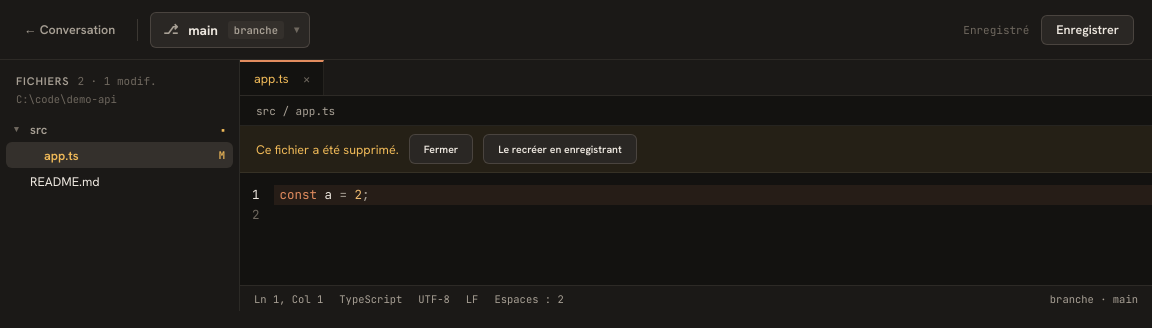
Test: EditorView › creates a deleted file again with "Enregistrer", even without a change
Check: the message shows "Ce fichier a été supprimé.", box [256,140,399,158]
What coordinates should you click on to do the following:
click the button "Enregistrer"
I would click on:
 (1088, 30)
Its box is [1041,14,1134,44].
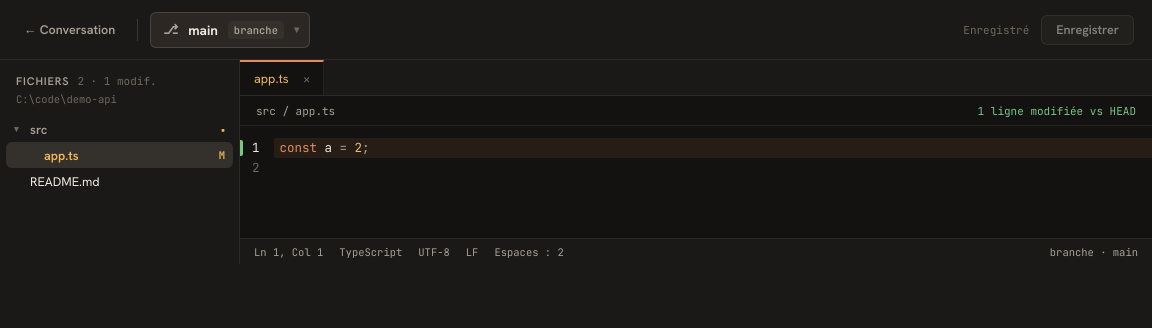
Check: the message "Ce fichier a été supprimé. Fermer Le recréer en enregistrant" is gone
